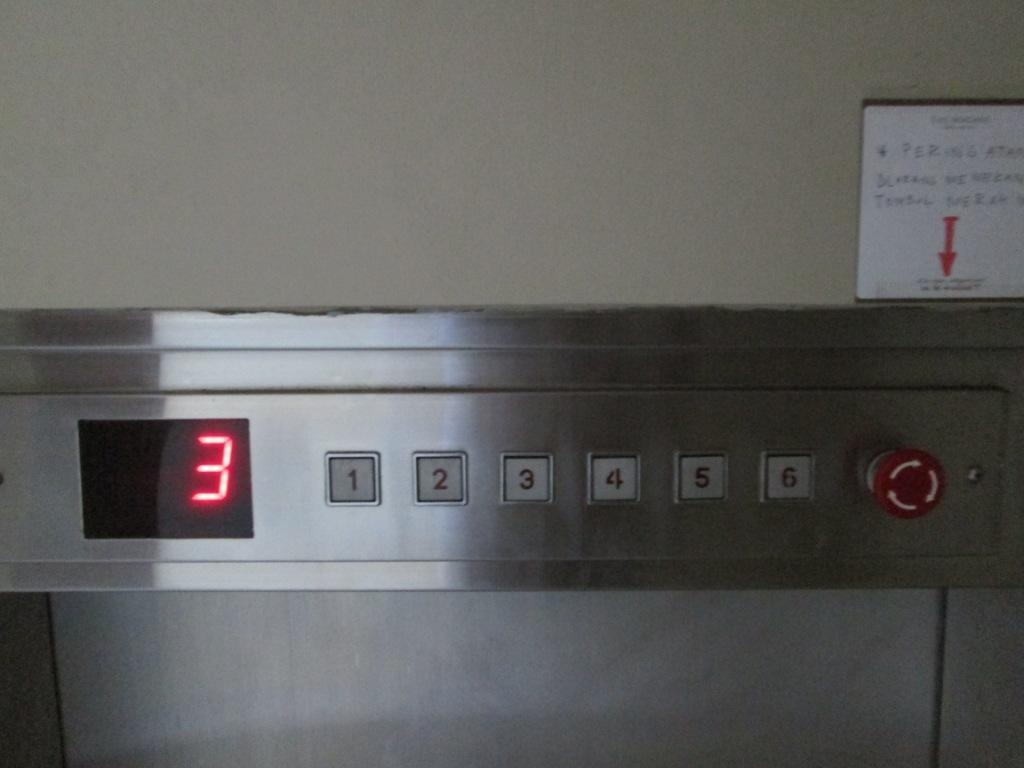1: (324, 451, 380, 507)
2: (411, 450, 470, 507)
3: (498, 451, 553, 504)
4: (586, 448, 642, 507)
5: (673, 453, 727, 504)
6: (762, 450, 816, 504)
led: (81, 418, 253, 540)
text: (857, 443, 952, 520)
